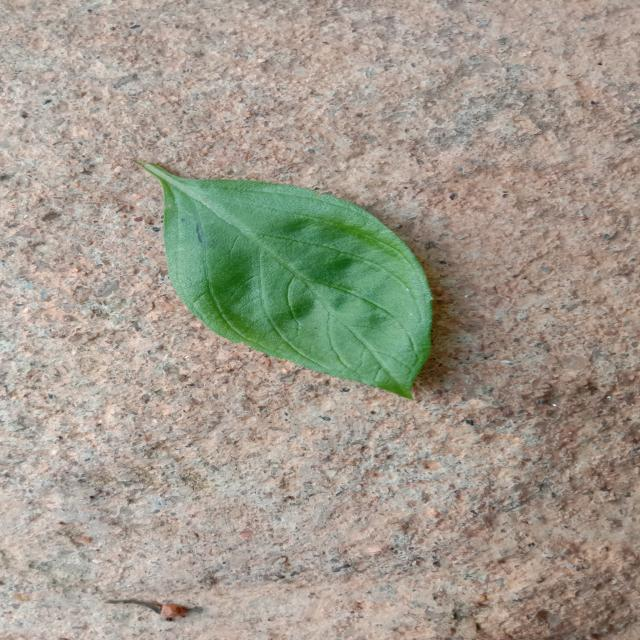kamakasturi: (139, 162, 433, 399)
